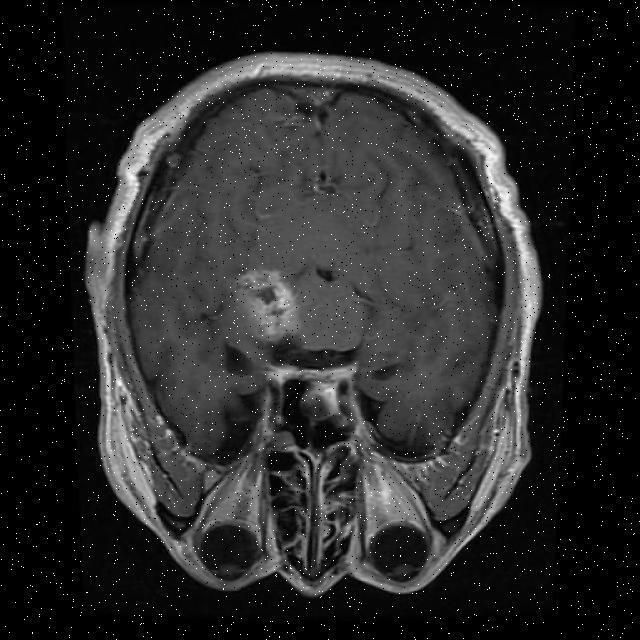Meningioma: (238, 272, 297, 341)
